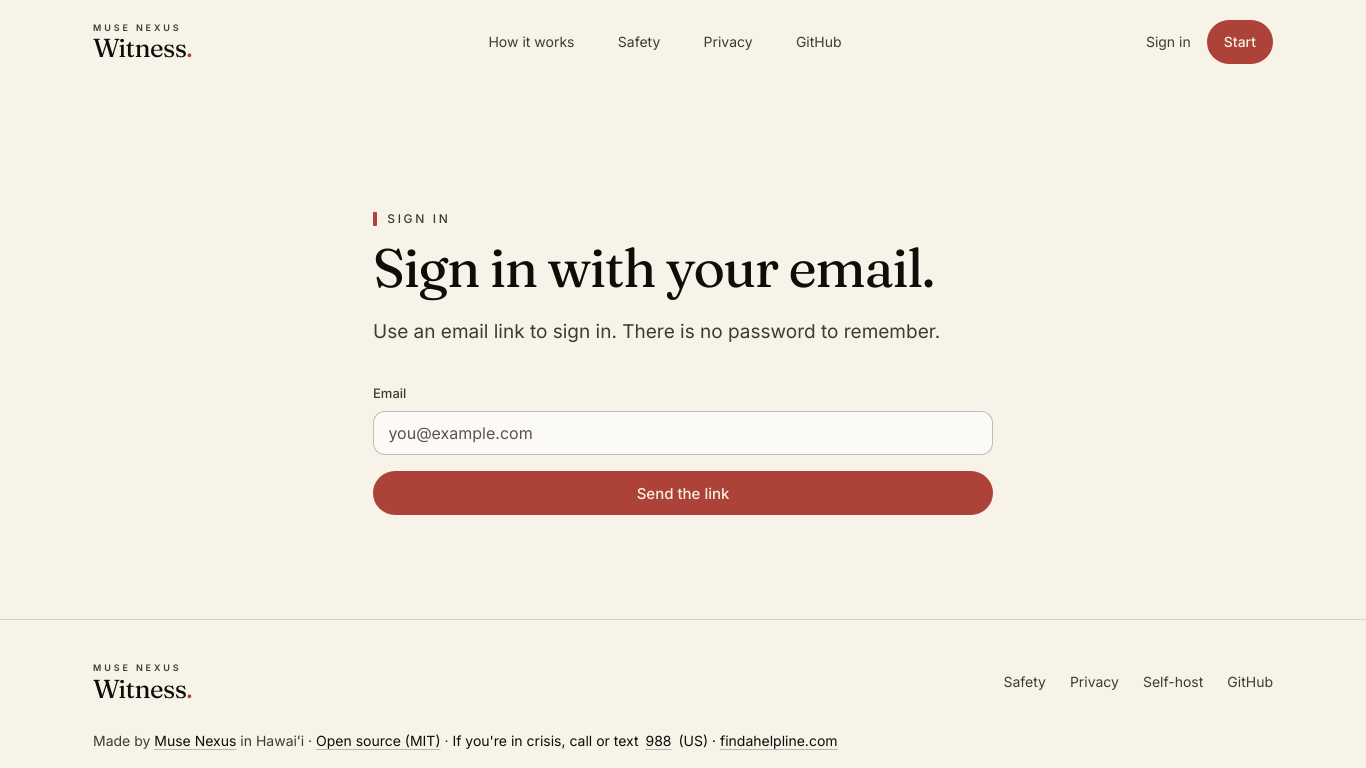
Test: Sign in › does not send anything for an address that is not one yet
The width and height of the screenshot is (1366, 768).
Type "not-an-email" into the field labelled "Email".
click(683, 434); type("not-an-email")  # box x1=373 y1=412 x2=993 y2=456
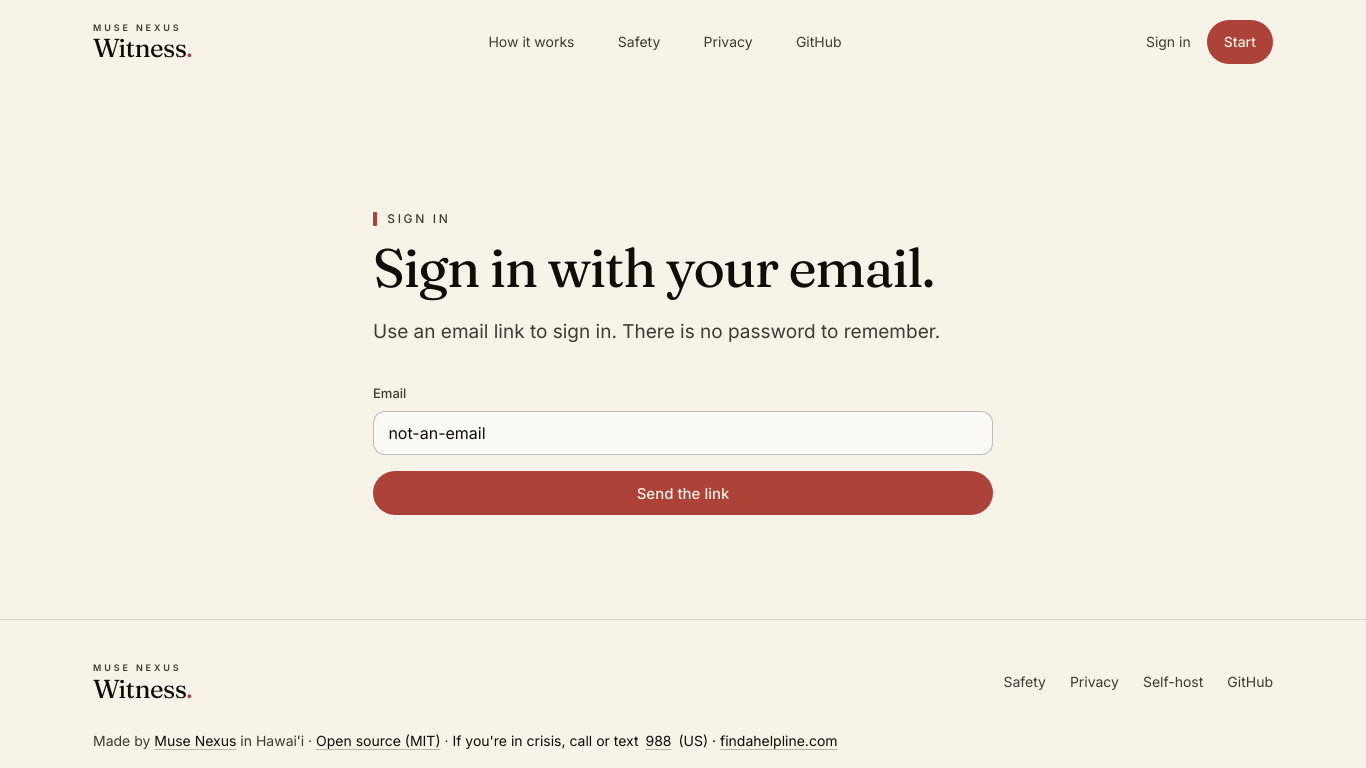
Click the button "Send the link".
click(683, 494)  # box x1=373 y1=472 x2=993 y2=516
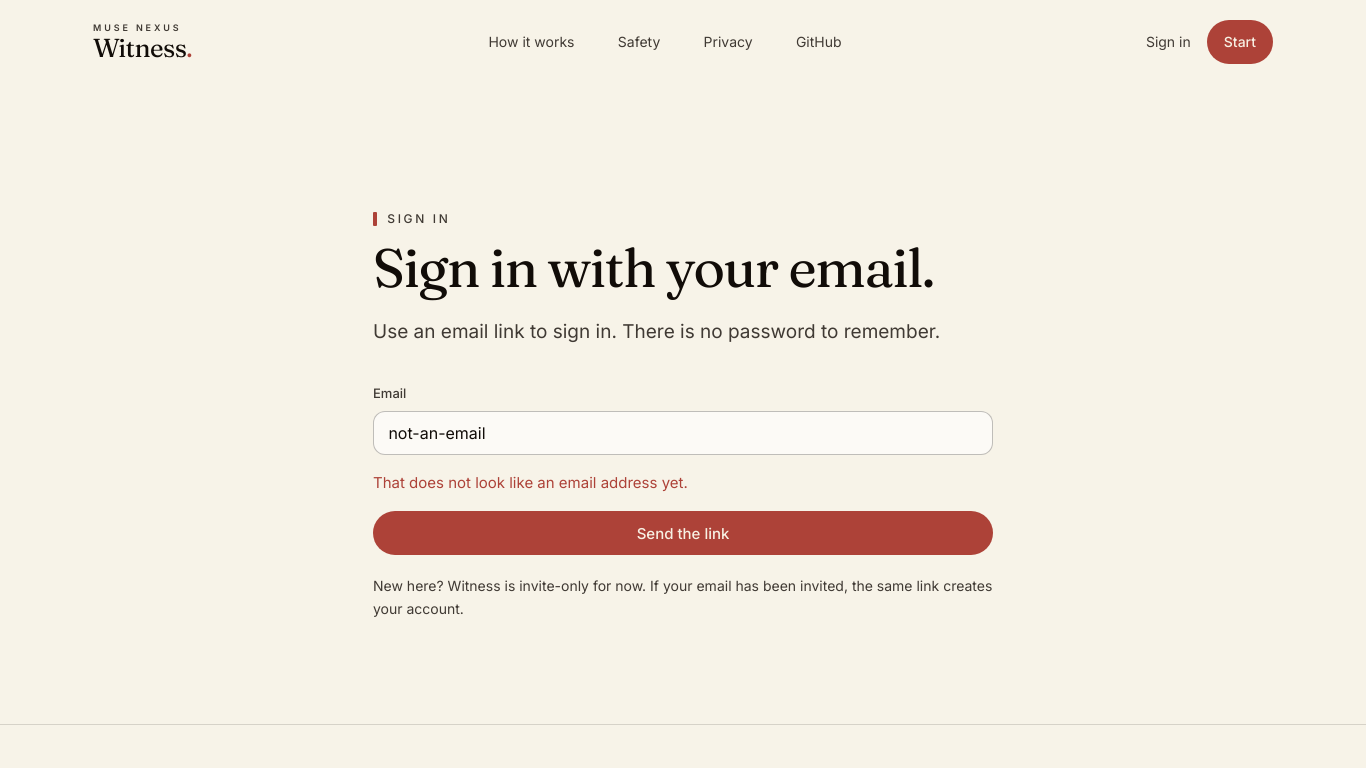
Expected: the message reads "That does not look like an email address yet.", x1=373 y1=474 x2=688 y2=492
